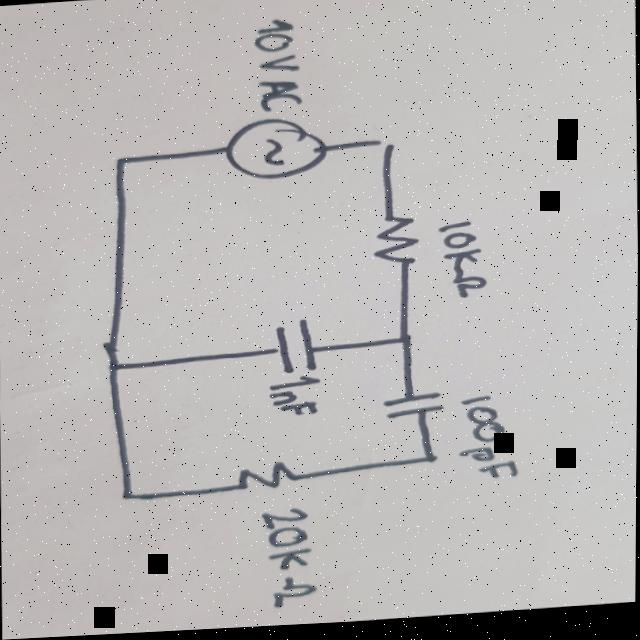capacitor: (265, 317, 327, 380), (374, 392, 448, 427)
junction: (386, 334, 420, 354), (111, 488, 145, 506), (100, 358, 132, 376), (370, 140, 401, 158), (106, 153, 134, 171), (414, 454, 445, 470)
resistor: (358, 215, 423, 273), (222, 459, 311, 500)
source: (222, 117, 325, 187)
text: (456, 397, 524, 488), (259, 509, 317, 612), (249, 17, 304, 115), (439, 222, 491, 306), (256, 375, 326, 420)
